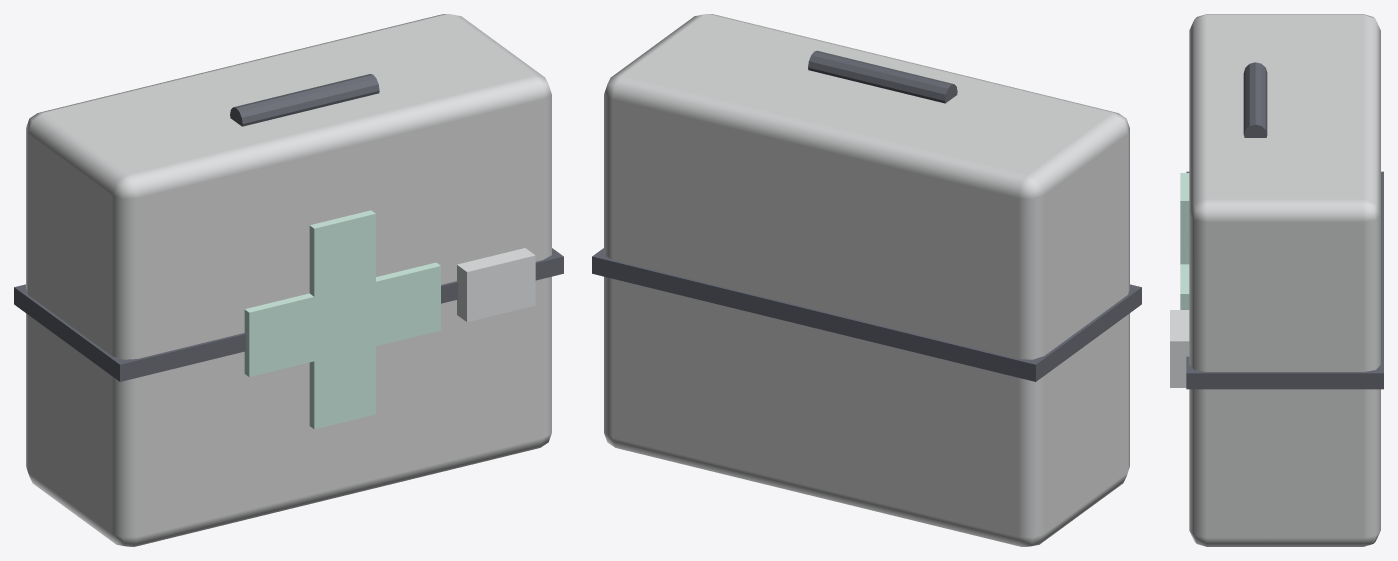
The picture shows the model from 3 angles, left to right: view 1: azimuth 30°, elevation 25°; view 2: azimuth 150°, elevation 25°; view 3: azimuth 270°, elevation 25°; orthographic projection. The views are drawn at different scales.
Parts seen in each view (by area): view 1: first-aid-box; view 2: first-aid-box; view 3: first-aid-box.
Part boxes in pixels (x1=…): first-aid-box: x1=14, y1=14, x2=563, y2=546; first-aid-box: x1=592, y1=14, x2=1141, y2=546; first-aid-box: x1=1170, y1=14, x2=1383, y2=546.
Bounding box in the file's own units: 0.324 × 0.27 × 0.145.
